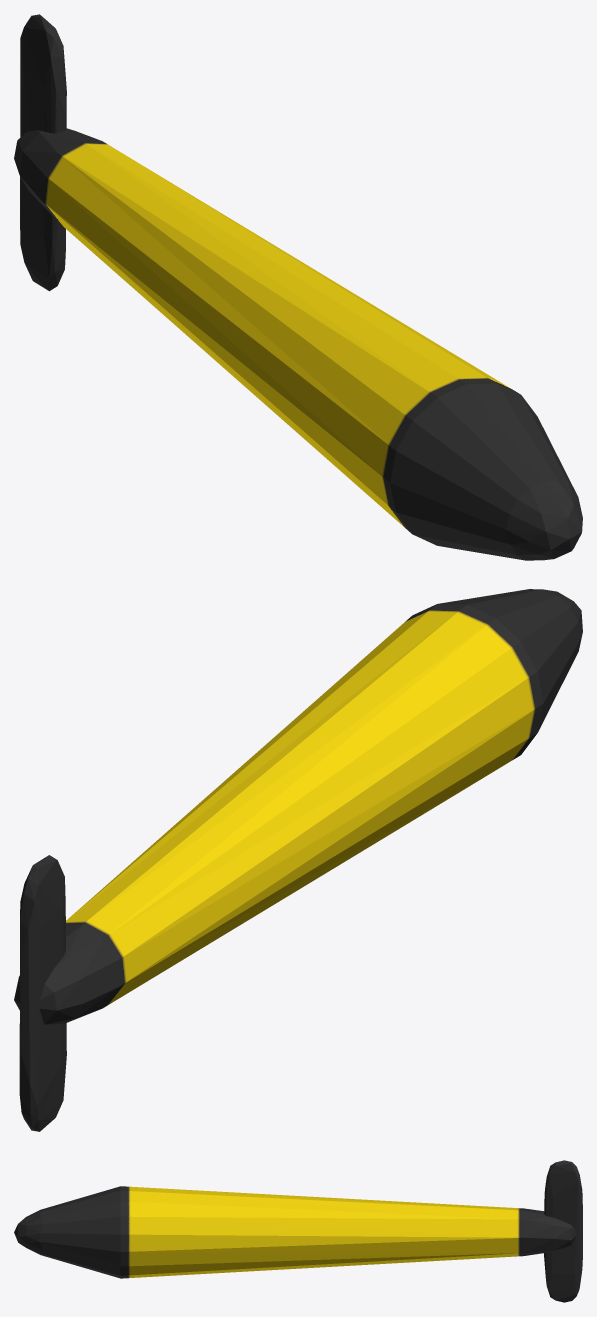
The model's file is auv_2.dae.
3 views of the same model, one above another, from view 1: azimuth 30°, elevation 25°; view 2: azimuth 150°, elevation 25°; view 3: azimuth 270°, elevation 25° (orthographic). The views are drawn at different scales.
Parts seen in each view (by area): view 1: instance_2 (×2); view 2: instance_2 (×2); view 3: instance_2 (×2).
Boxes of the visible parts, x1,y1,x2,y2 form: instance_2 (×2): [14, 14, 582, 560]; instance_2 (×2): [14, 589, 582, 1131]; instance_2 (×2): [14, 1160, 582, 1302].
Size of the model in its own units: 42.57 by 262 by 71.81.
1 material, 1 textured.
